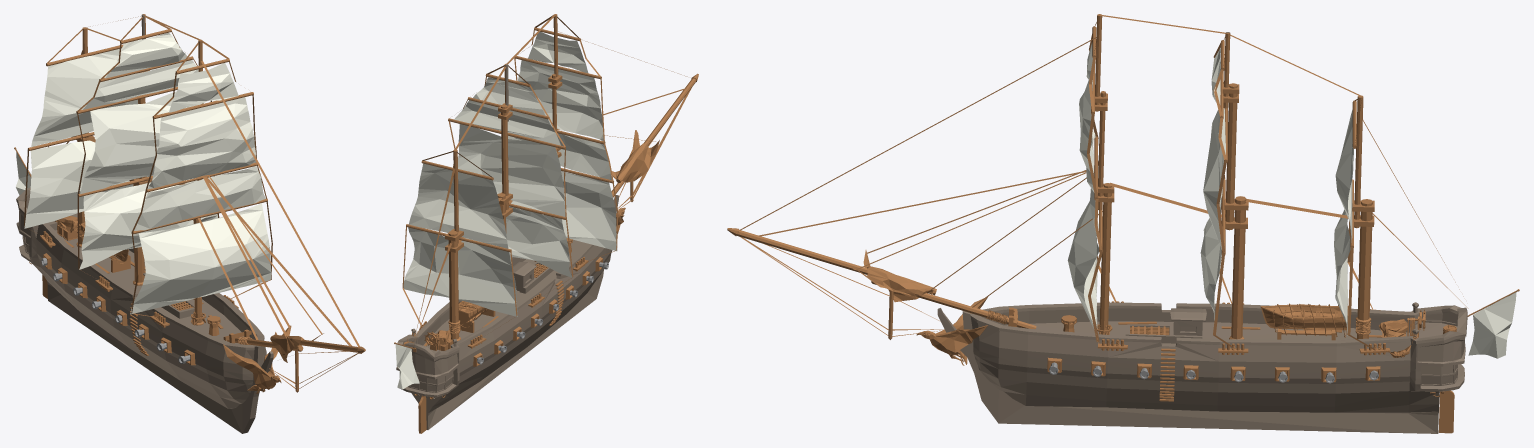
File: ship.fbx
3 views of the same model, side by side, from view 1: azimuth 30°, elevation 25°; view 2: azimuth 150°, elevation 25°; view 3: azimuth 270°, elevation 25° (orthographic). The views are drawn at different scales.
Parts seen in each view (by area): view 1: Cube.024_Cube.018; view 2: Cube.024_Cube.018; view 3: Cube.024_Cube.018.
Boxes of the visible parts, x1,y1,x2,y2 form: Cube.024_Cube.018: (14,14,365,433); Cube.024_Cube.018: (394,14,698,433); Cube.024_Cube.018: (727,14,1519,433).
Size of the model in its own units: 710 by 1768 by 3040.
